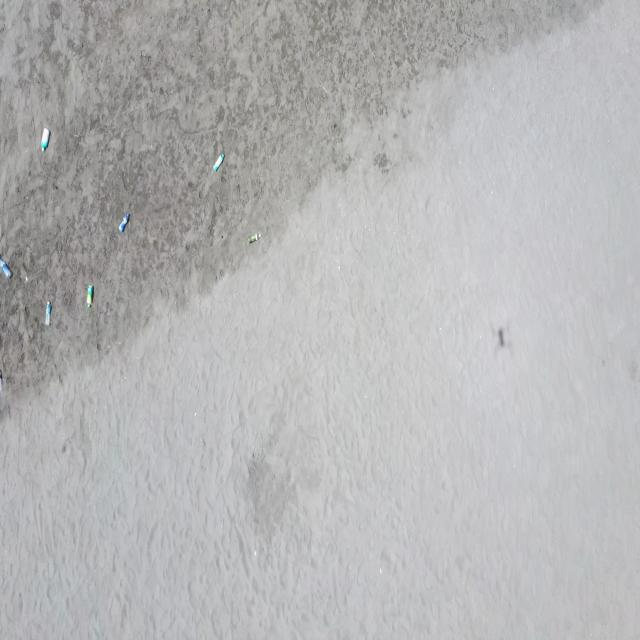Garbage: (0, 256, 12, 278), (212, 151, 223, 171), (40, 128, 49, 151), (118, 212, 128, 232), (44, 300, 51, 324), (85, 284, 92, 307), (247, 232, 260, 243), (0, 369, 2, 392)
